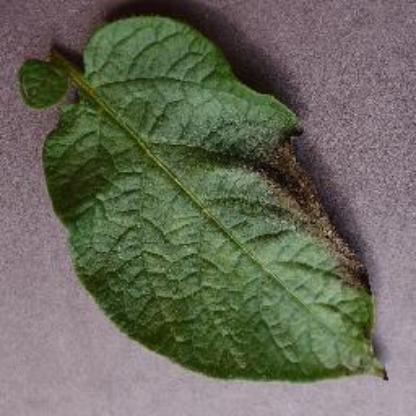Late-Blight: (20, 17, 394, 399)
